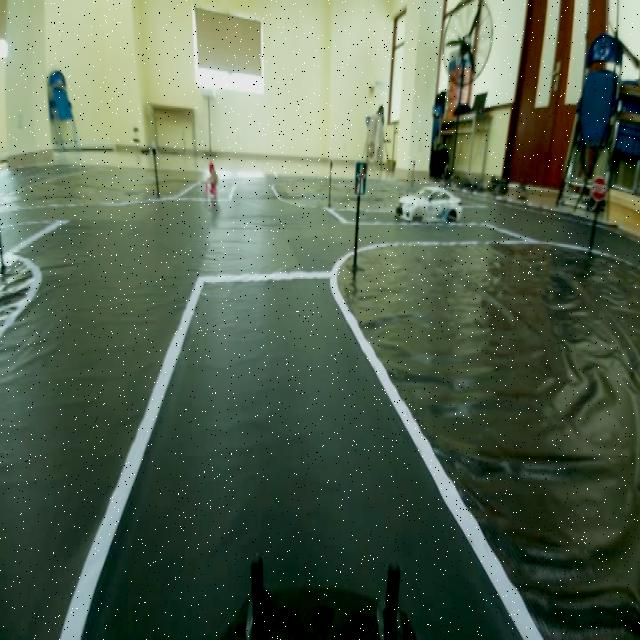highway_exit: (349, 158, 367, 196)
